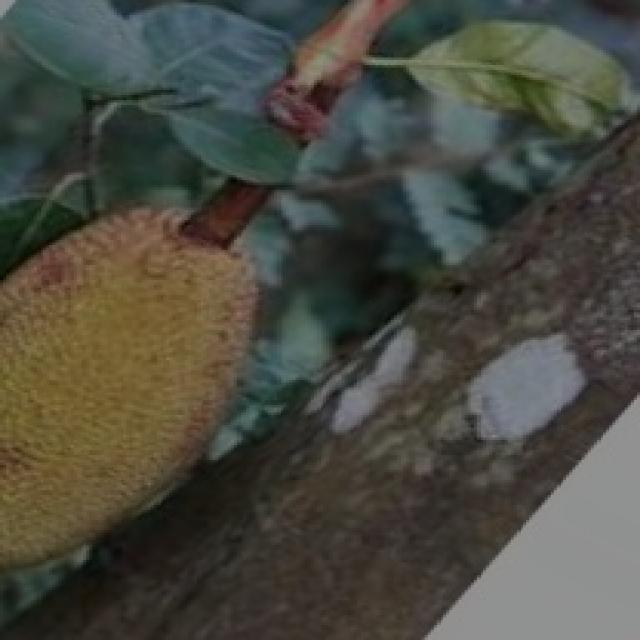Fruit: (0, 203, 317, 605)
